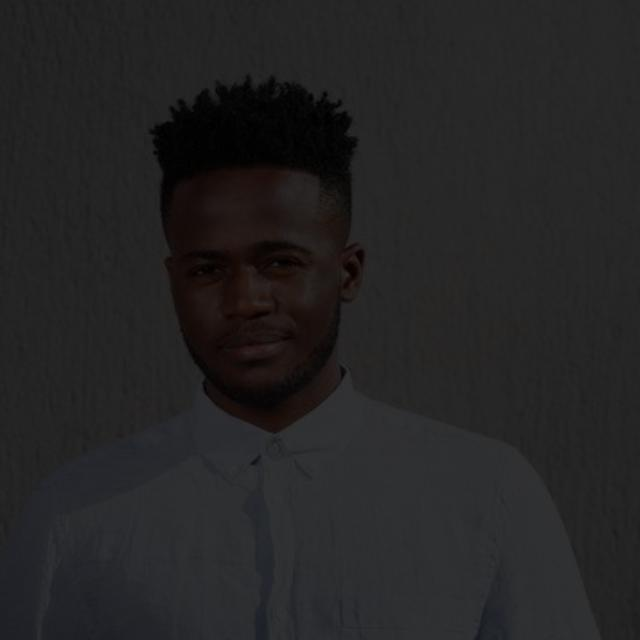Natural: (123, 77, 382, 460)
